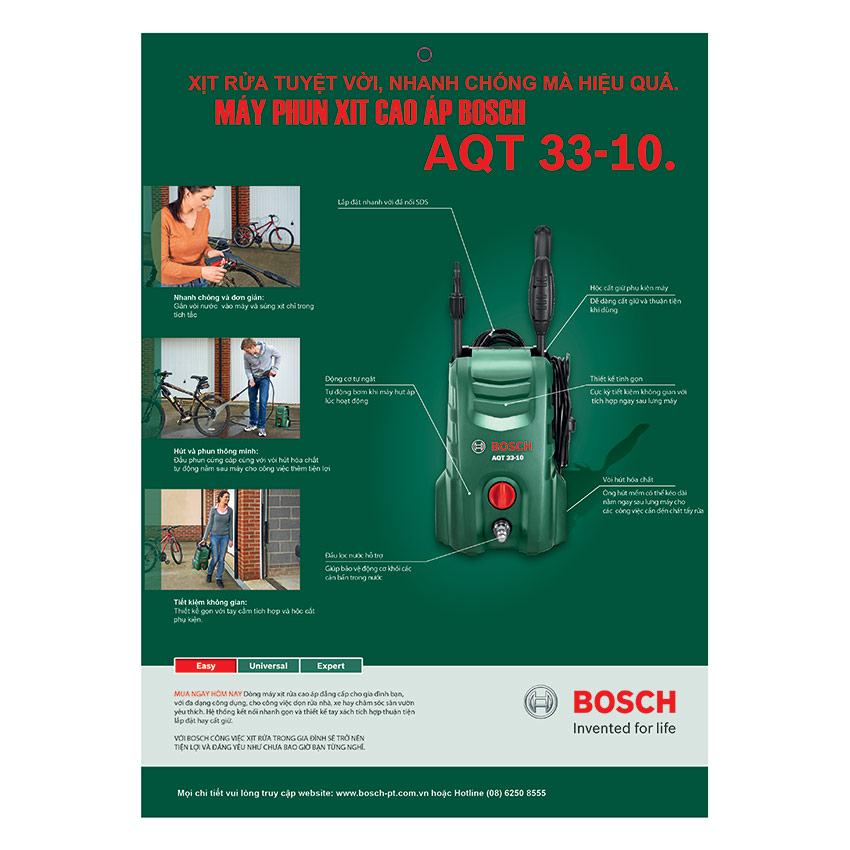Bosch: (567, 687, 690, 720)
